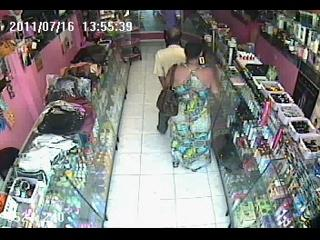Normal: (164, 42, 224, 172), (153, 28, 187, 134), (156, 64, 179, 116)
